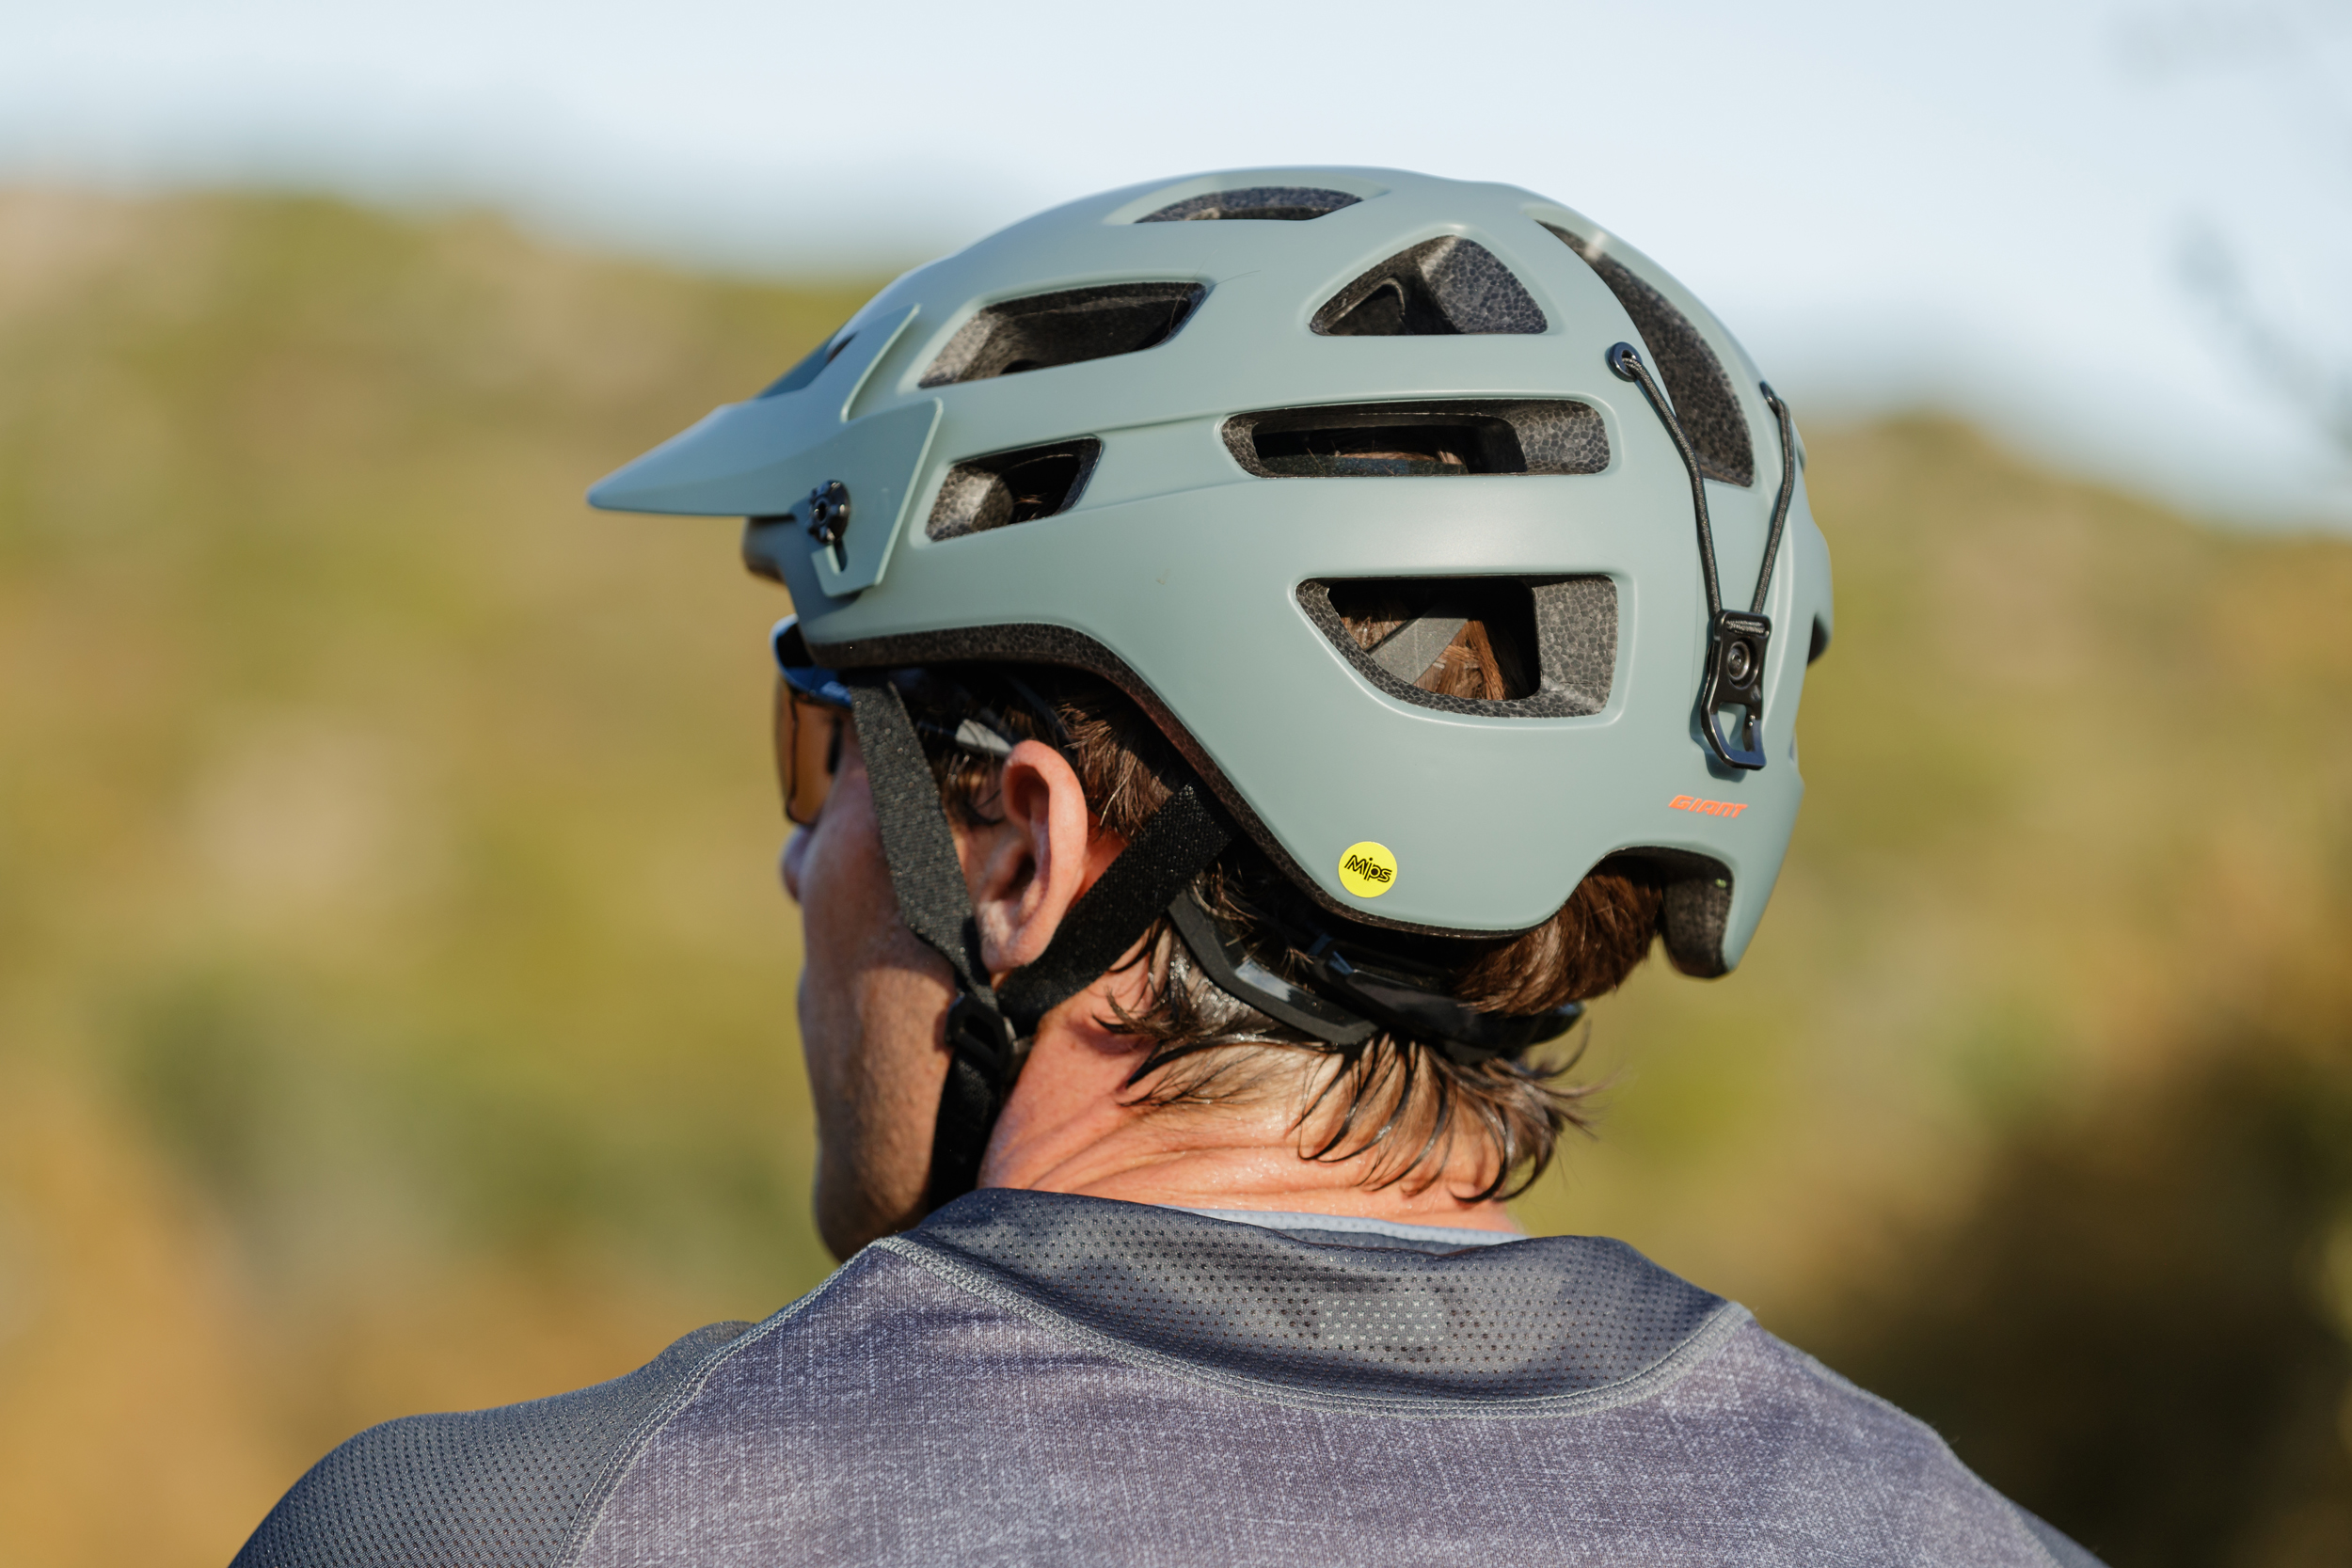helmet: (586, 164, 1834, 1272)
